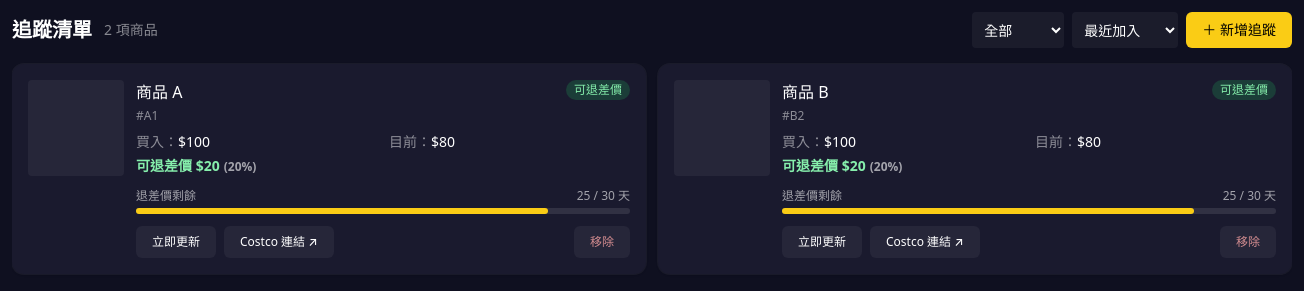
Test case: <DashboardPage /> per-card refresh state (#32) › refreshing card A keeps card B refresh button enabled
Expected: the link "商品 A" is shown, x1=136 y1=81 x2=182 y2=103
Expected: the link "商品 B" is shown, x1=782 y1=81 x2=829 y2=103
Click the button "立即更新" below "A1". click: (176,242)
box: x1=136 y1=226 x2=216 y2=258
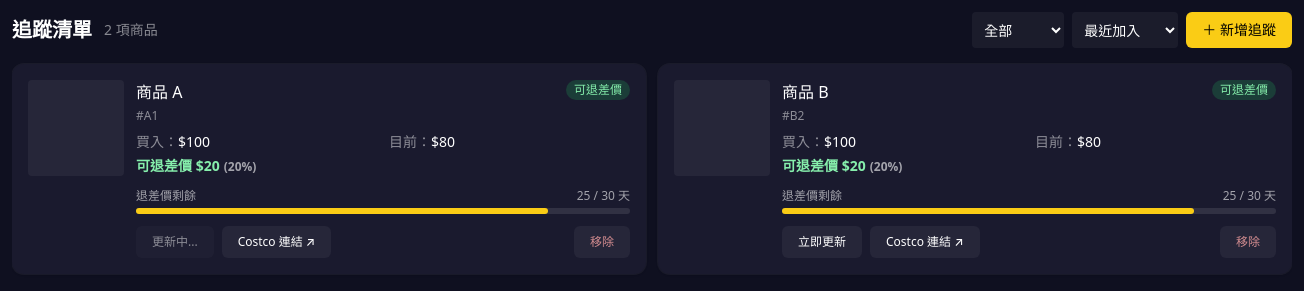
Expected: the number of buttons "立即更新" is 1, x1=782 y1=226 x2=862 y2=258
Expected: the button "更新中..." is disabled, x1=136 y1=226 x2=214 y2=258
